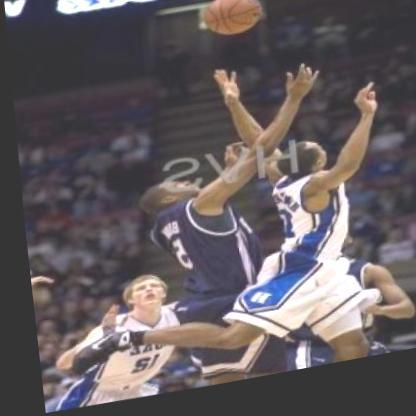basketball: (196, 0, 265, 56)
